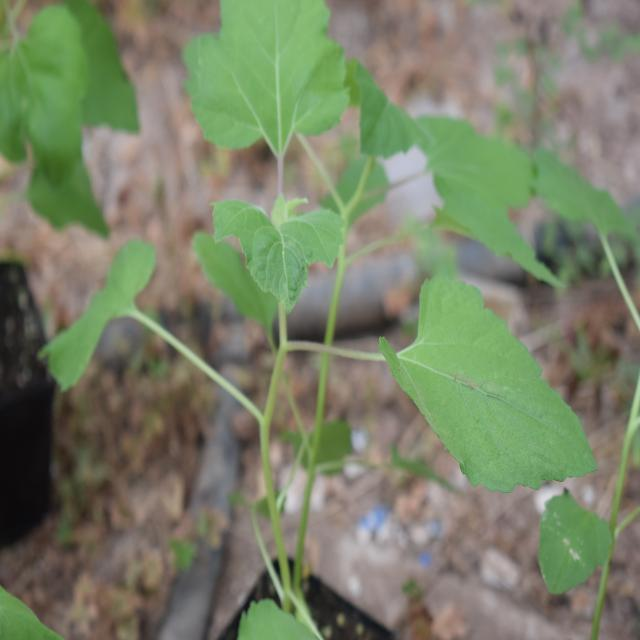cocklebur: (66, 8, 585, 484)
